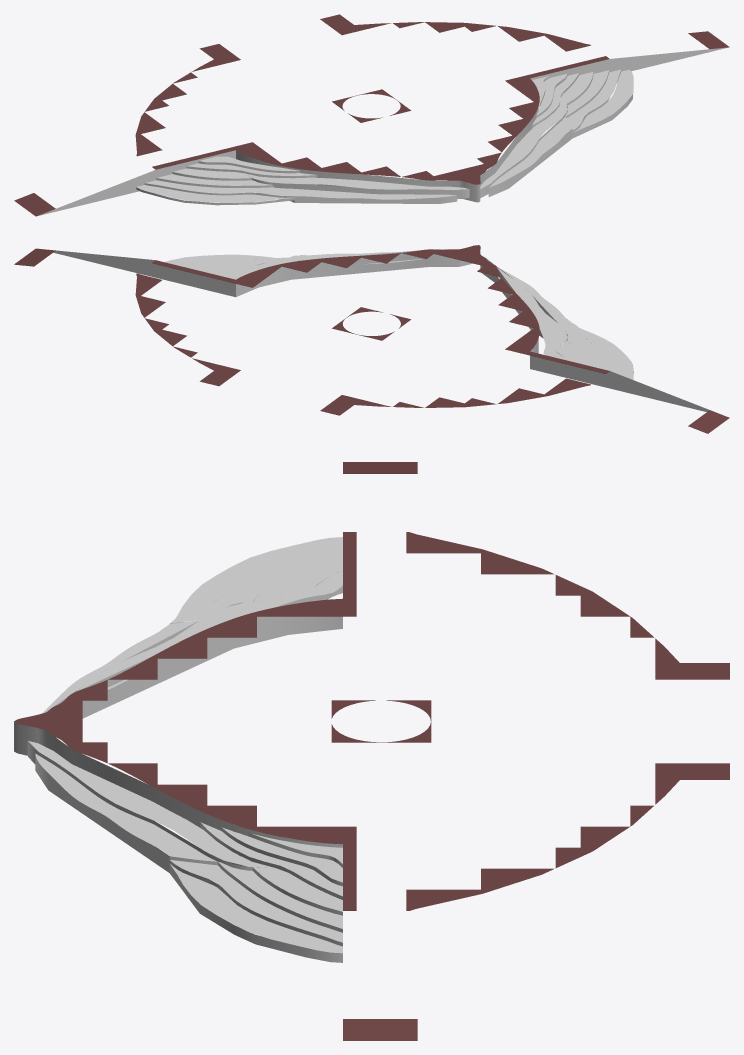
Rendered from Stage.obj.
The picture shows the model from 3 angles, top to bottom: view 1: azimuth 30°, elevation 25°; view 2: azimuth 150°, elevation 25°; view 3: azimuth 270°, elevation 25°; orthographic projection. The views are drawn at different scales.
Size of the model in its own units: 82544 by 2388 by 43148.
